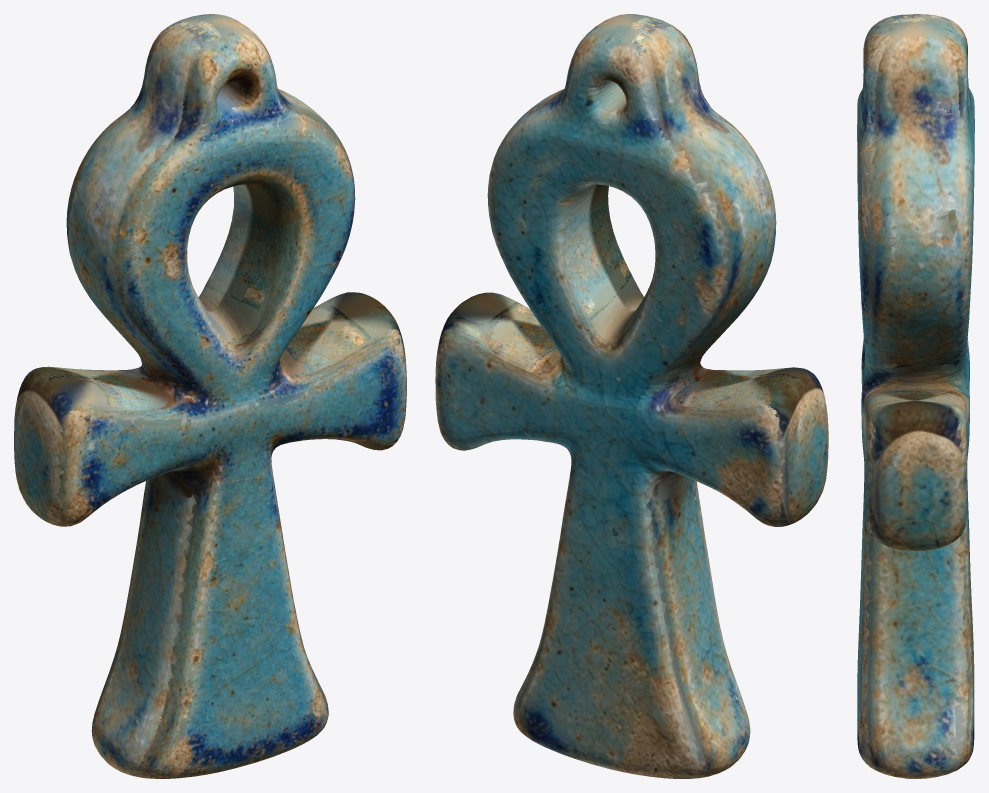
File: amulet_02_ankh.glb
3 renders of one model, left to right at view 1: azimuth 30°, elevation 25°; view 2: azimuth 150°, elevation 25°; view 3: azimuth 270°, elevation 25°, orthographic.
Bounding box in the file's own units: 0.5172 × 1 × 0.1473.
1 material, 1 textured.
